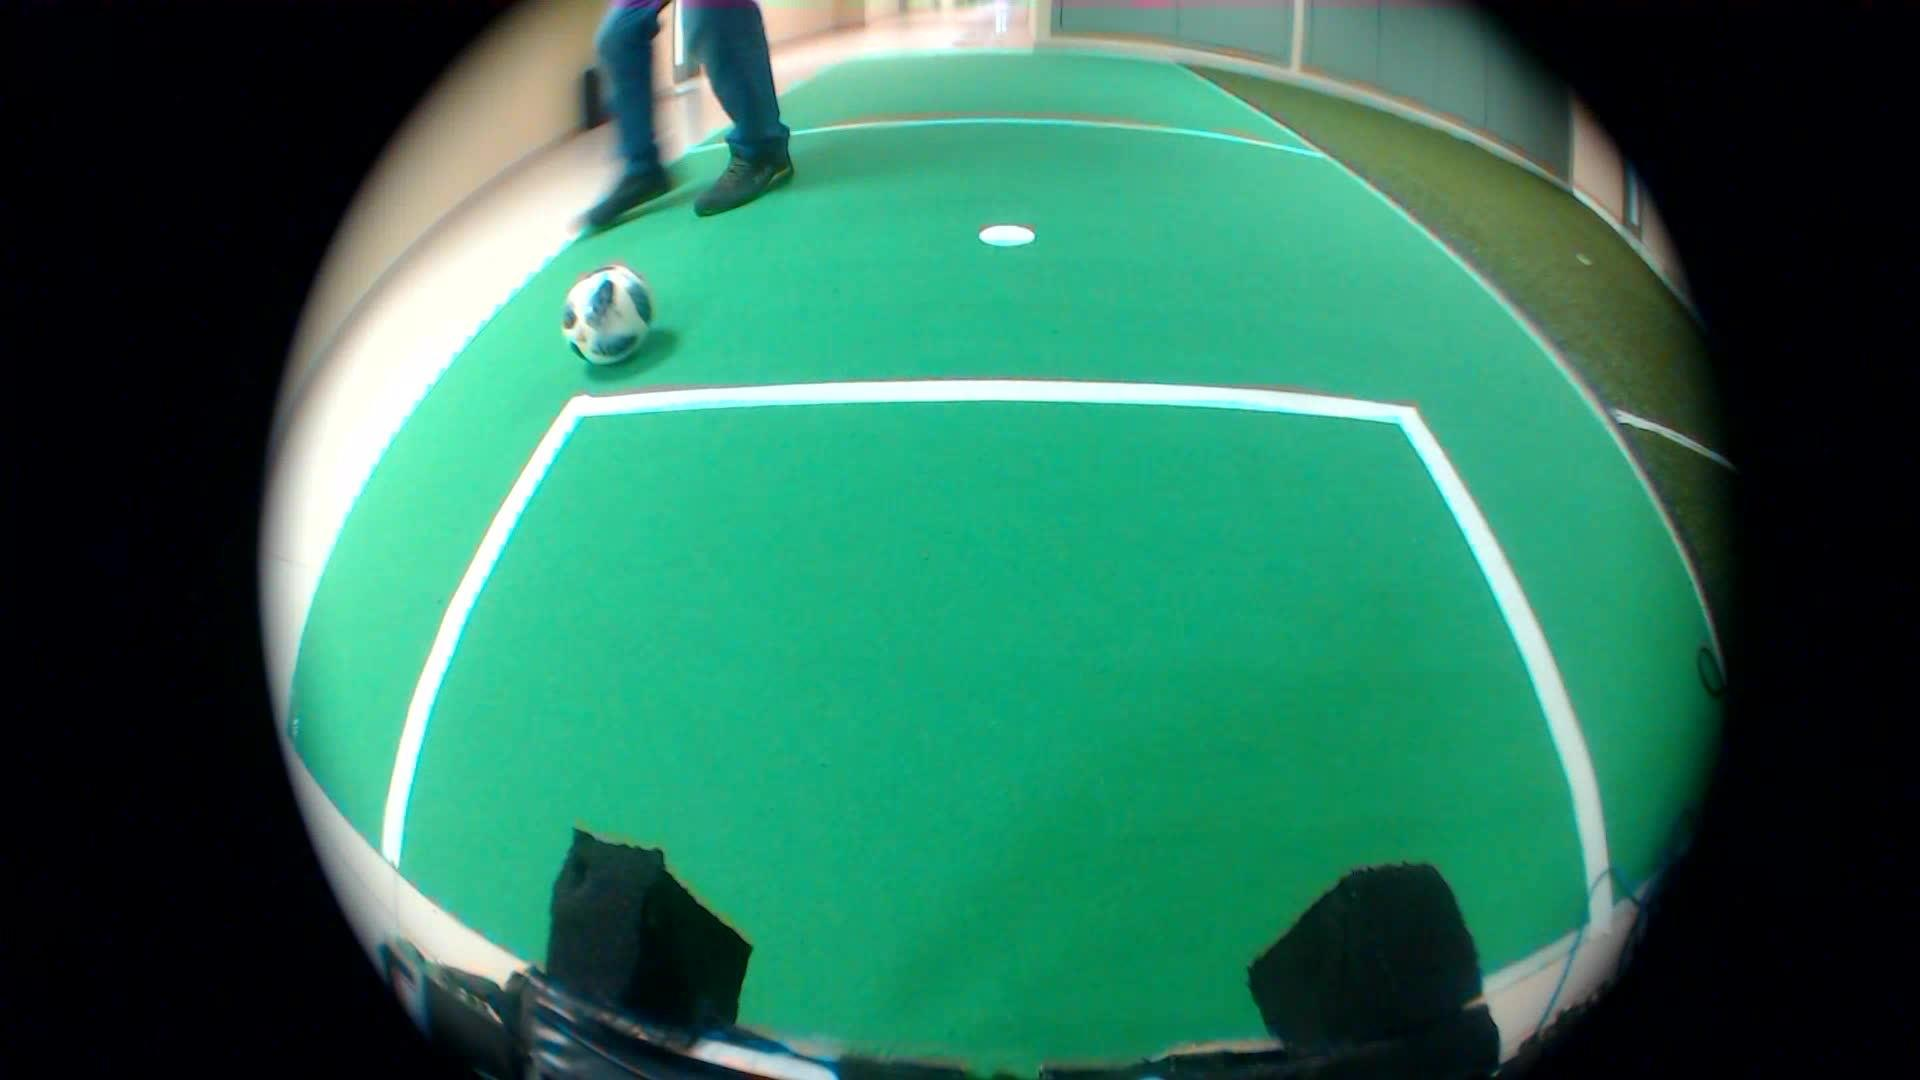ball: (551, 260, 669, 377)
